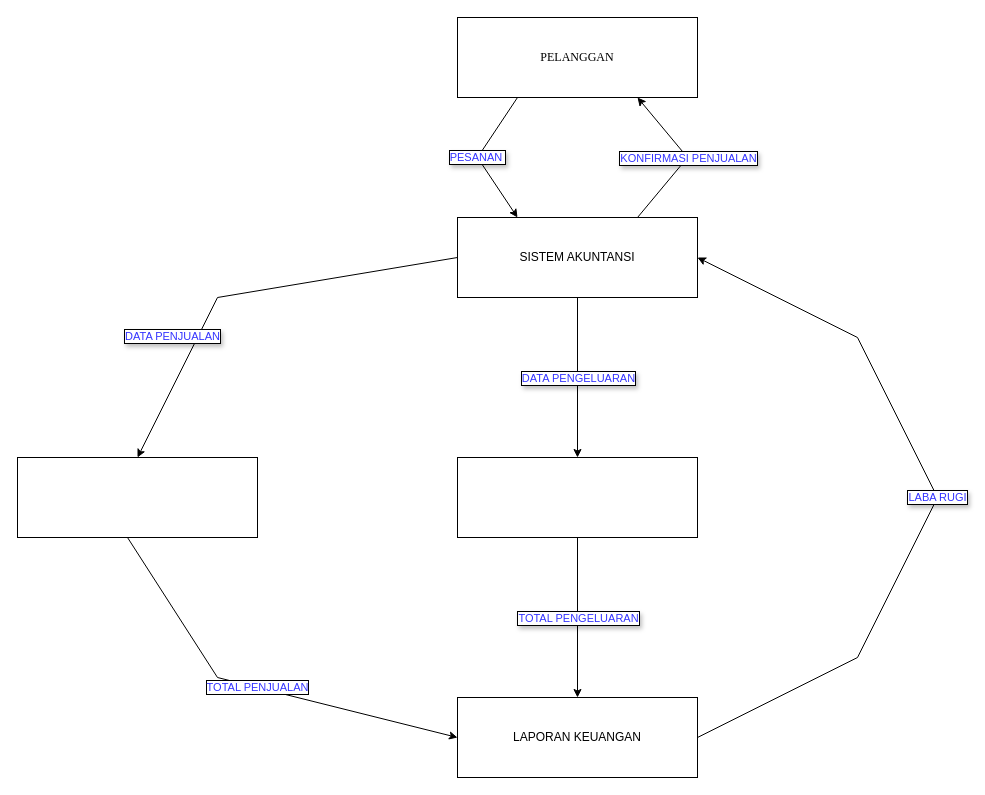
Some shapes in this 985 by 795 pixel diagram are drawn without their labels. The shapes that lost their labels are listed below. From the top down, each one's box as (x1, y1, x2, y2) in pixels, then its label:
(16, 456, 258, 538): REKAMAN PENJUALAN
(456, 456, 698, 538): REKAMAN PENGELUARAN
